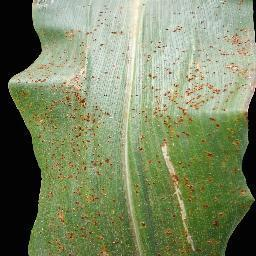Corn_Common_Rust: (135, 126, 254, 256), (133, 0, 256, 125), (7, 0, 126, 101), (17, 102, 118, 203), (26, 204, 129, 256)
